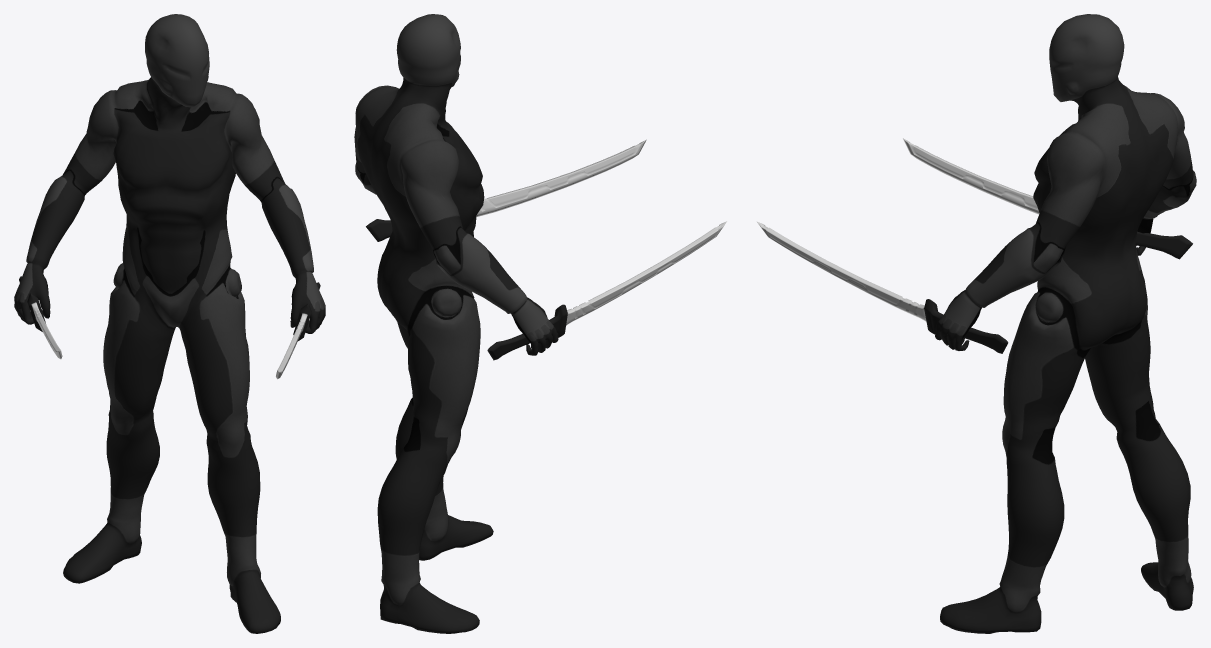
3 views of the same model, side by side, from view 1: azimuth 30°, elevation 25°; view 2: azimuth 150°, elevation 25°; view 3: azimuth 270°, elevation 25° (orthographic). The views are drawn at different scales.
Parts seen in each view (by area): view 1: Cyborg_Ninja_Killer, Sword_l, Sword_l001; view 2: Cyborg_Ninja_Killer, Sword_l001, Sword_l; view 3: Cyborg_Ninja_Killer, Sword_l, Sword_l001.
Part boxes in pixels (box(x1,y1,x2,y2)): Cyborg_Ninja_Killer: box(14, 14, 325, 633); Sword_l: box(276, 282, 320, 379); Sword_l001: box(19, 276, 62, 359); Cyborg_Ninja_Killer: box(354, 14, 558, 633); Sword_l001: box(487, 221, 726, 360); Sword_l: box(366, 139, 646, 241); Cyborg_Ninja_Killer: box(935, 14, 1196, 633); Sword_l: box(756, 221, 1008, 353); Sword_l001: box(903, 138, 1192, 259).
Bounding box in the file's own units: 104 × 182 × 123.
2 materials, 2 textured.
